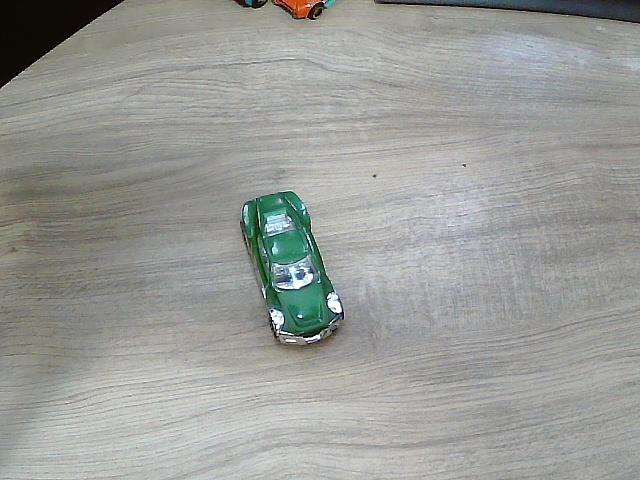Carro: (242, 192, 344, 347)
